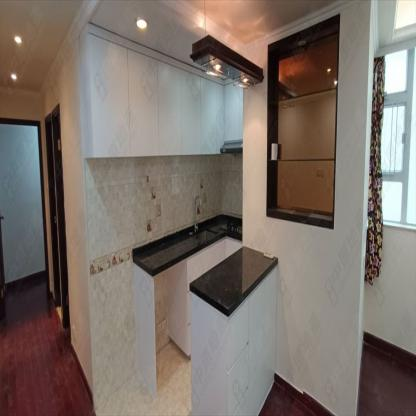Cupboard: (88, 28, 223, 159)
Exhaust Hood: (221, 141, 243, 156)
Faucet: (194, 195, 202, 230)
Sink: (189, 227, 220, 240)
